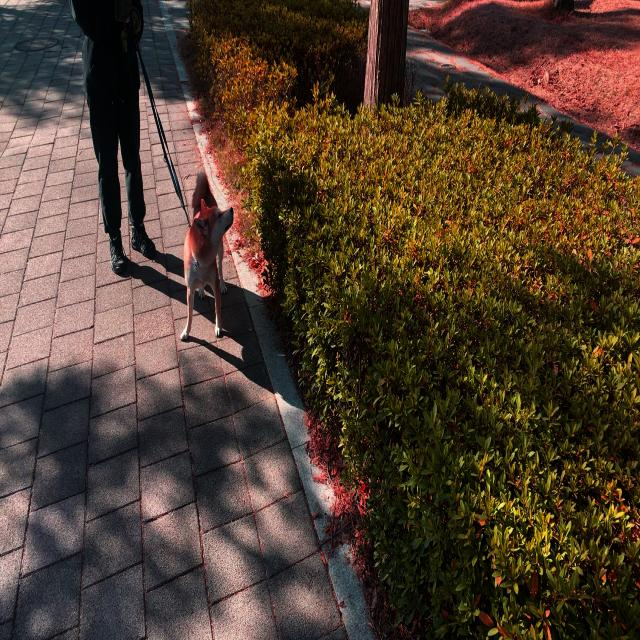Leashed_Dog: (115, 1, 234, 342)
